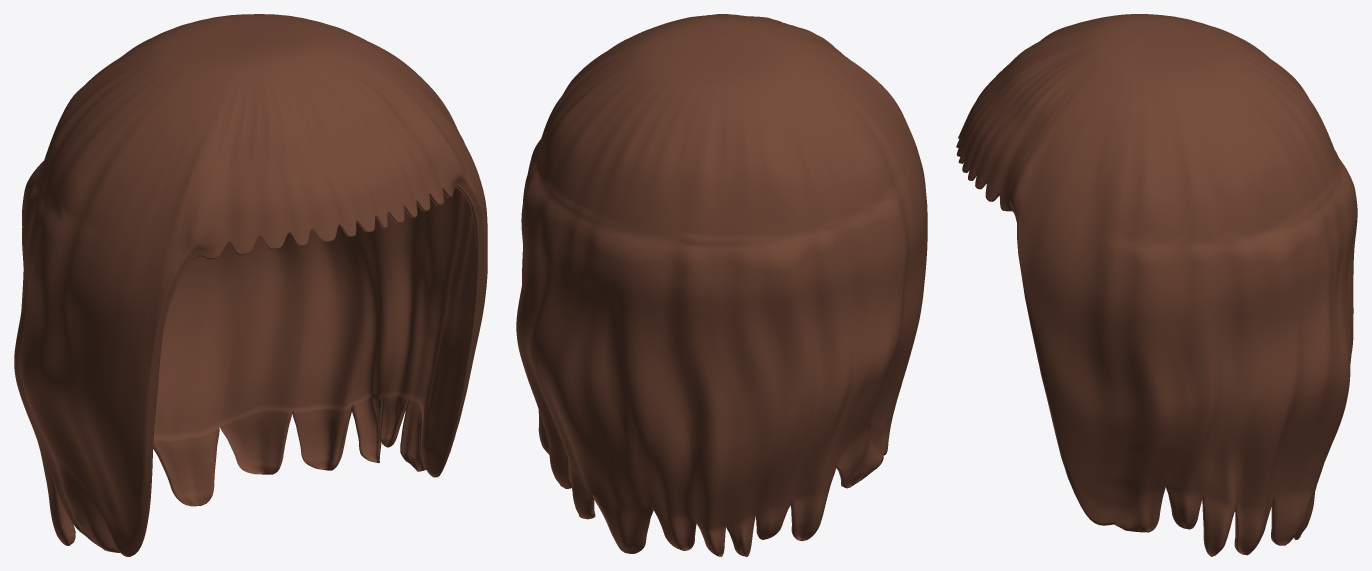
File: long-bucket.glb
3 renders of one model, left to right at view 1: azimuth 30°, elevation 25°; view 2: azimuth 150°, elevation 25°; view 3: azimuth 270°, elevation 25°, orthographic. The views are drawn at different scales.
Visible parts, largest first — view 1: Hair / rounded long fringe; view 2: Hair / rounded long fringe; view 3: Hair / rounded long fringe.
Boxes of the visible parts, x1=… form: Hair / rounded long fringe: x1=14, y1=14, x2=487, y2=556; Hair / rounded long fringe: x1=516, y1=14, x2=927, y2=556; Hair / rounded long fringe: x1=956, y1=14, x2=1357, y2=556.
Size of the model in its own units: 0.8534 by 1.05 by 0.7801.
